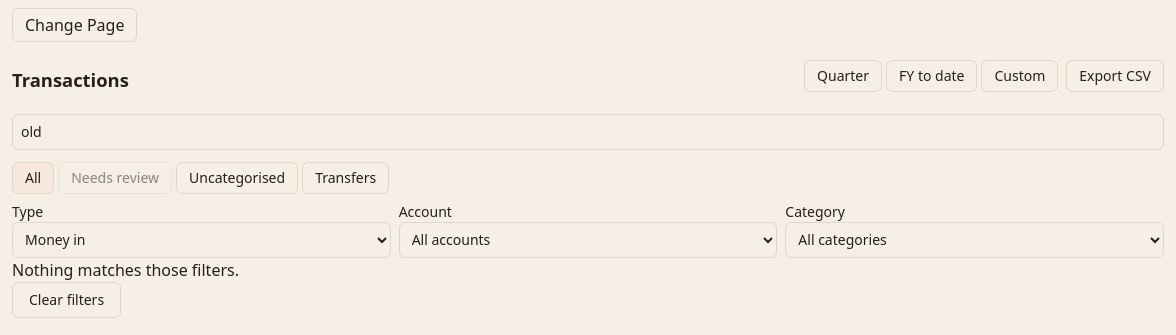
Scenario: TransactionList search box › drops the pending send and the typed text when Clear filters is pressed
In the search field: (588, 132) [12,114,1164,150], type "er"
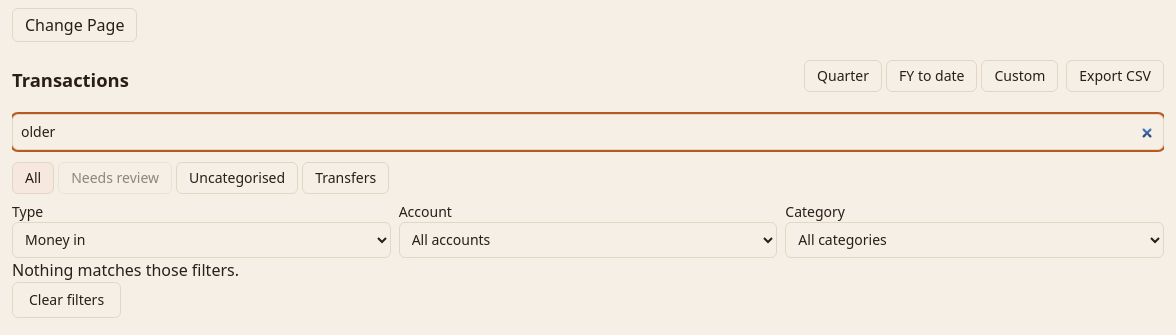
Click the button "Clear filters": (67, 300) [12,282,121,318]
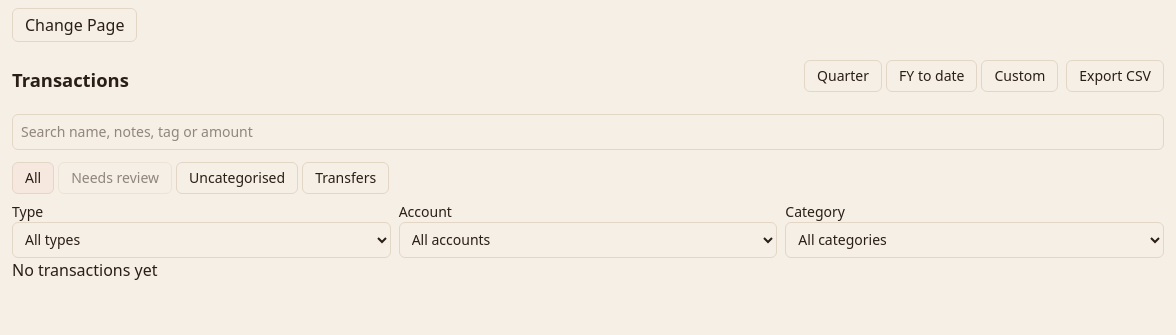
expect the search field is empty: met, box [12,114,1164,150]
